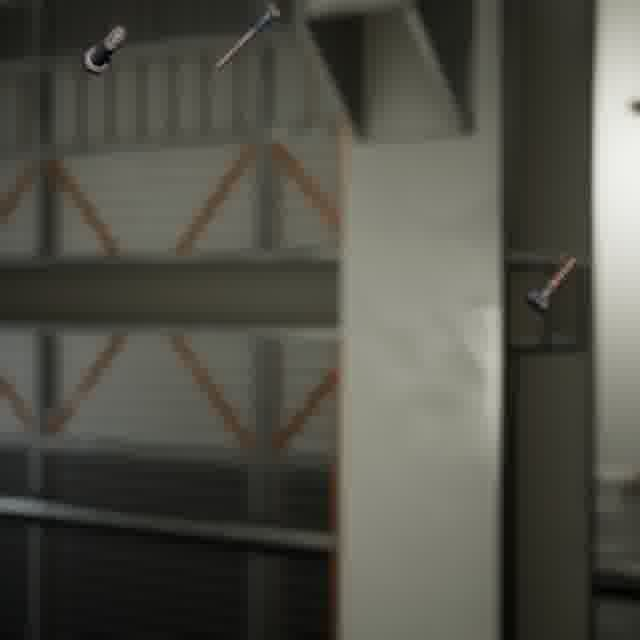bolt: (208, 0, 287, 75), (521, 252, 581, 318), (77, 21, 130, 79)
